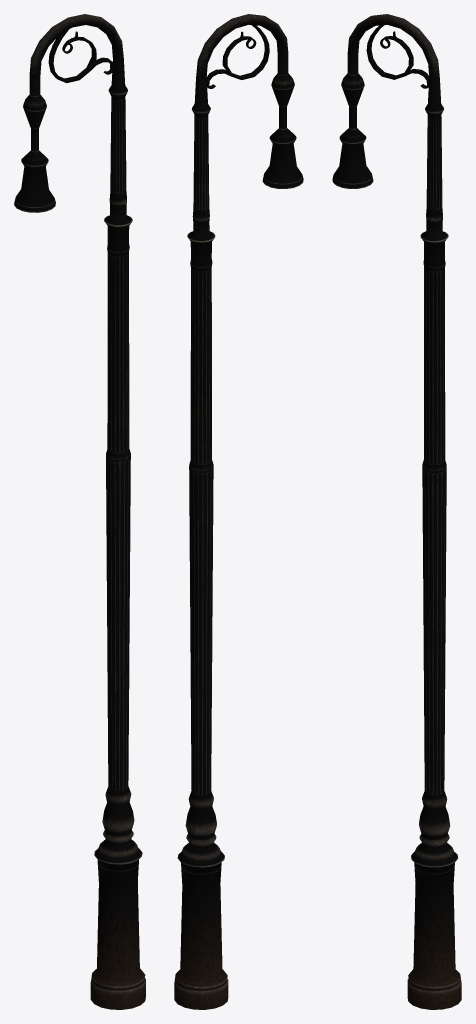
File: Lamp.obj
The picture shows the model from 3 angles, left to right: view 1: azimuth 30°, elevation 25°; view 2: azimuth 210°, elevation 25°; view 3: azimuth 330°, elevation 25°; orthographic projection. The views are drawn at different scales.
Parts seen in each view (by area): view 1: Lamp; view 2: Lamp; view 3: Lamp.
Boxes of the visible parts, x1,y1,x2,y2 form: Lamp: (14, 14, 145, 1009); Lamp: (174, 14, 303, 1009); Lamp: (332, 14, 461, 1009).
Size of the model in its own units: 0.7968 by 6.01 by 0.3053.
Materials: 1 (1 with a texture image).
